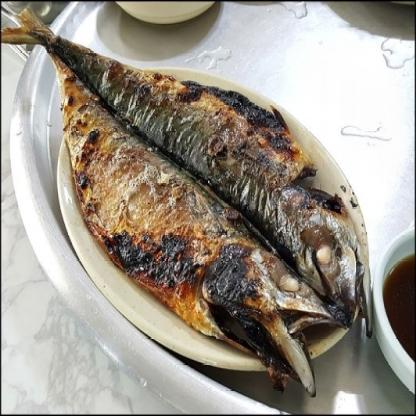Peixe: (0, 26, 365, 377)
